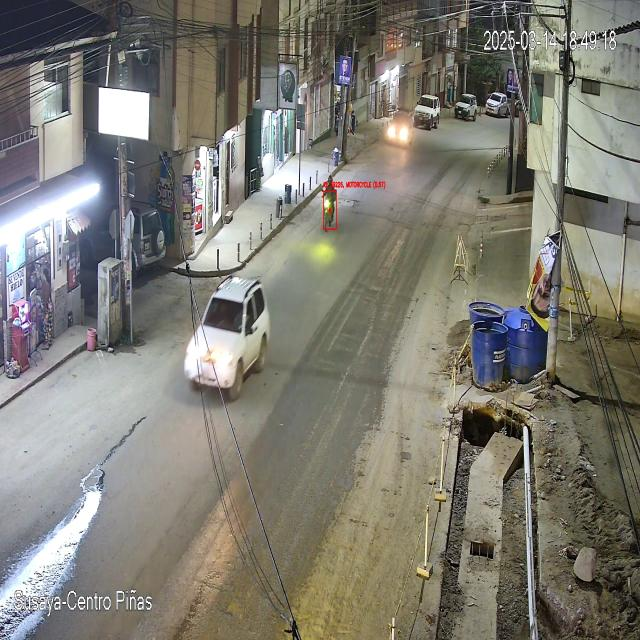SUV: (184, 278, 270, 400)
